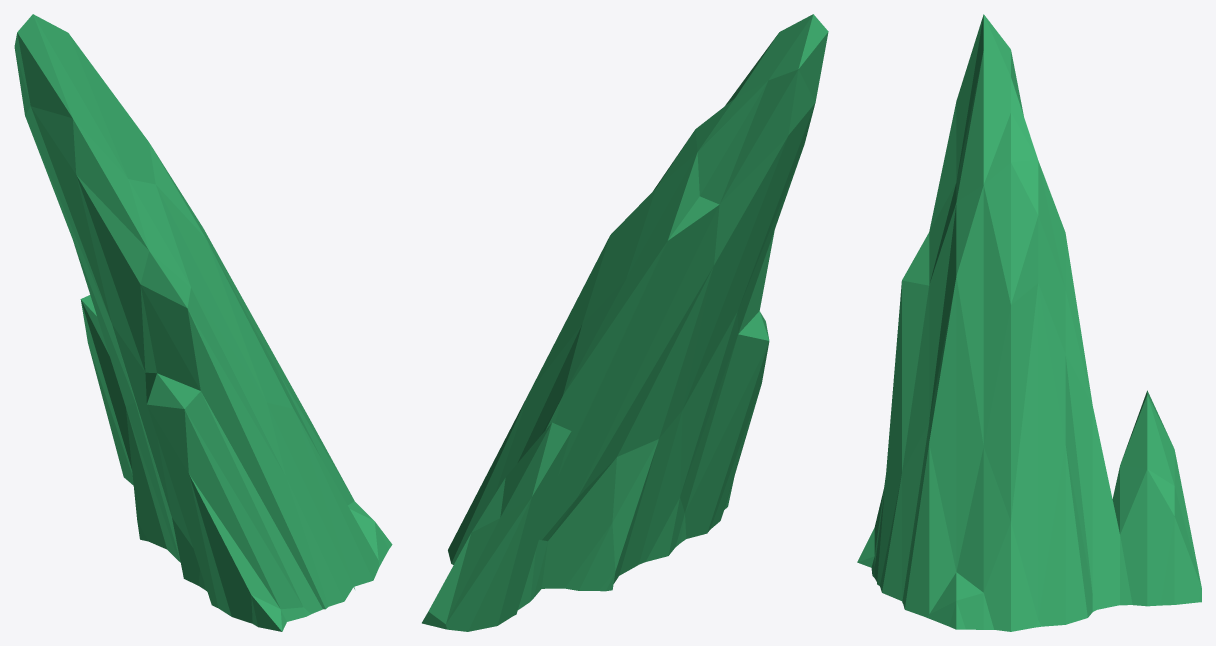
The model's file is Rock_Large_Gem_Jade_Emerald_Spike_01.FBX.
The picture shows the model from 3 angles, left to right: view 1: azimuth 30°, elevation 25°; view 2: azimuth 150°, elevation 25°; view 3: azimuth 270°, elevation 25°; orthographic projection. The views are drawn at different scales.
Visible parts, largest first — view 1: Rock_Large_Gem_Jade_Emerald_Spike_01; view 2: Rock_Large_Gem_Jade_Emerald_Spike_01; view 3: Rock_Large_Gem_Jade_Emerald_Spike_01.
Part boxes in pixels (bbox=[...]): Rock_Large_Gem_Jade_Emerald_Spike_01: bbox=[14, 14, 392, 631]; Rock_Large_Gem_Jade_Emerald_Spike_01: bbox=[422, 14, 828, 631]; Rock_Large_Gem_Jade_Emerald_Spike_01: bbox=[857, 14, 1201, 631].
Bounding box in the file's own units: 9942 × 15818 × 10190.
